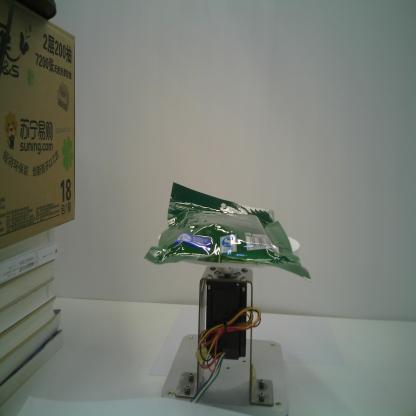Dried Food: (143, 180, 312, 283)
